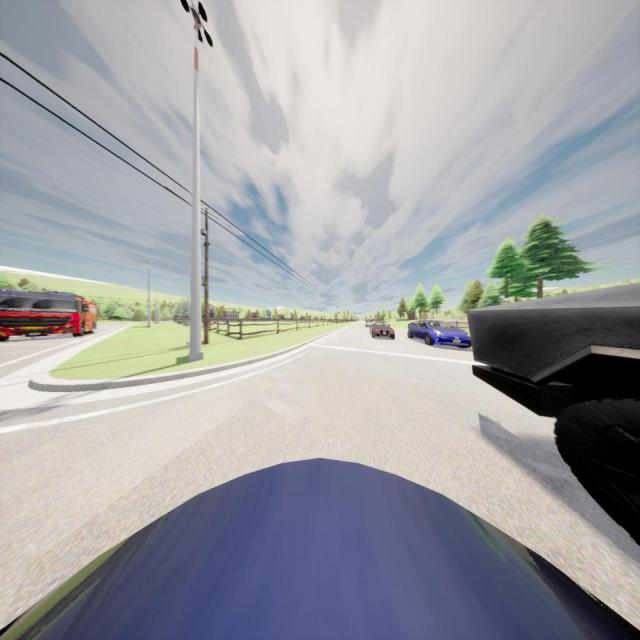Vehicle: (1, 458, 640, 640), (472, 281, 640, 542), (0, 291, 98, 342), (406, 319, 471, 349), (370, 322, 396, 340), (365, 320, 373, 327)
